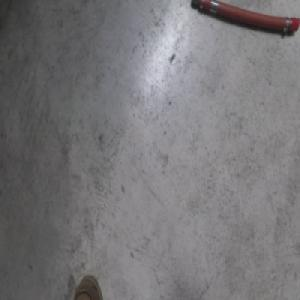Hose: (189, 0, 300, 38)
